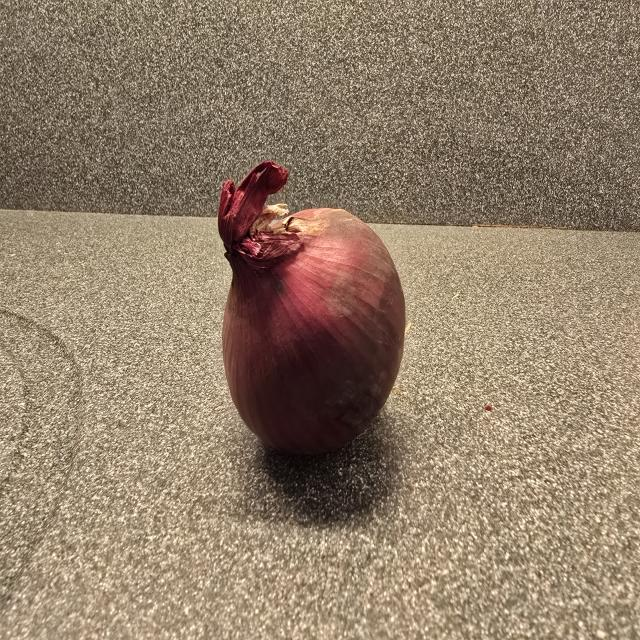Onion: (218, 161, 405, 454)
